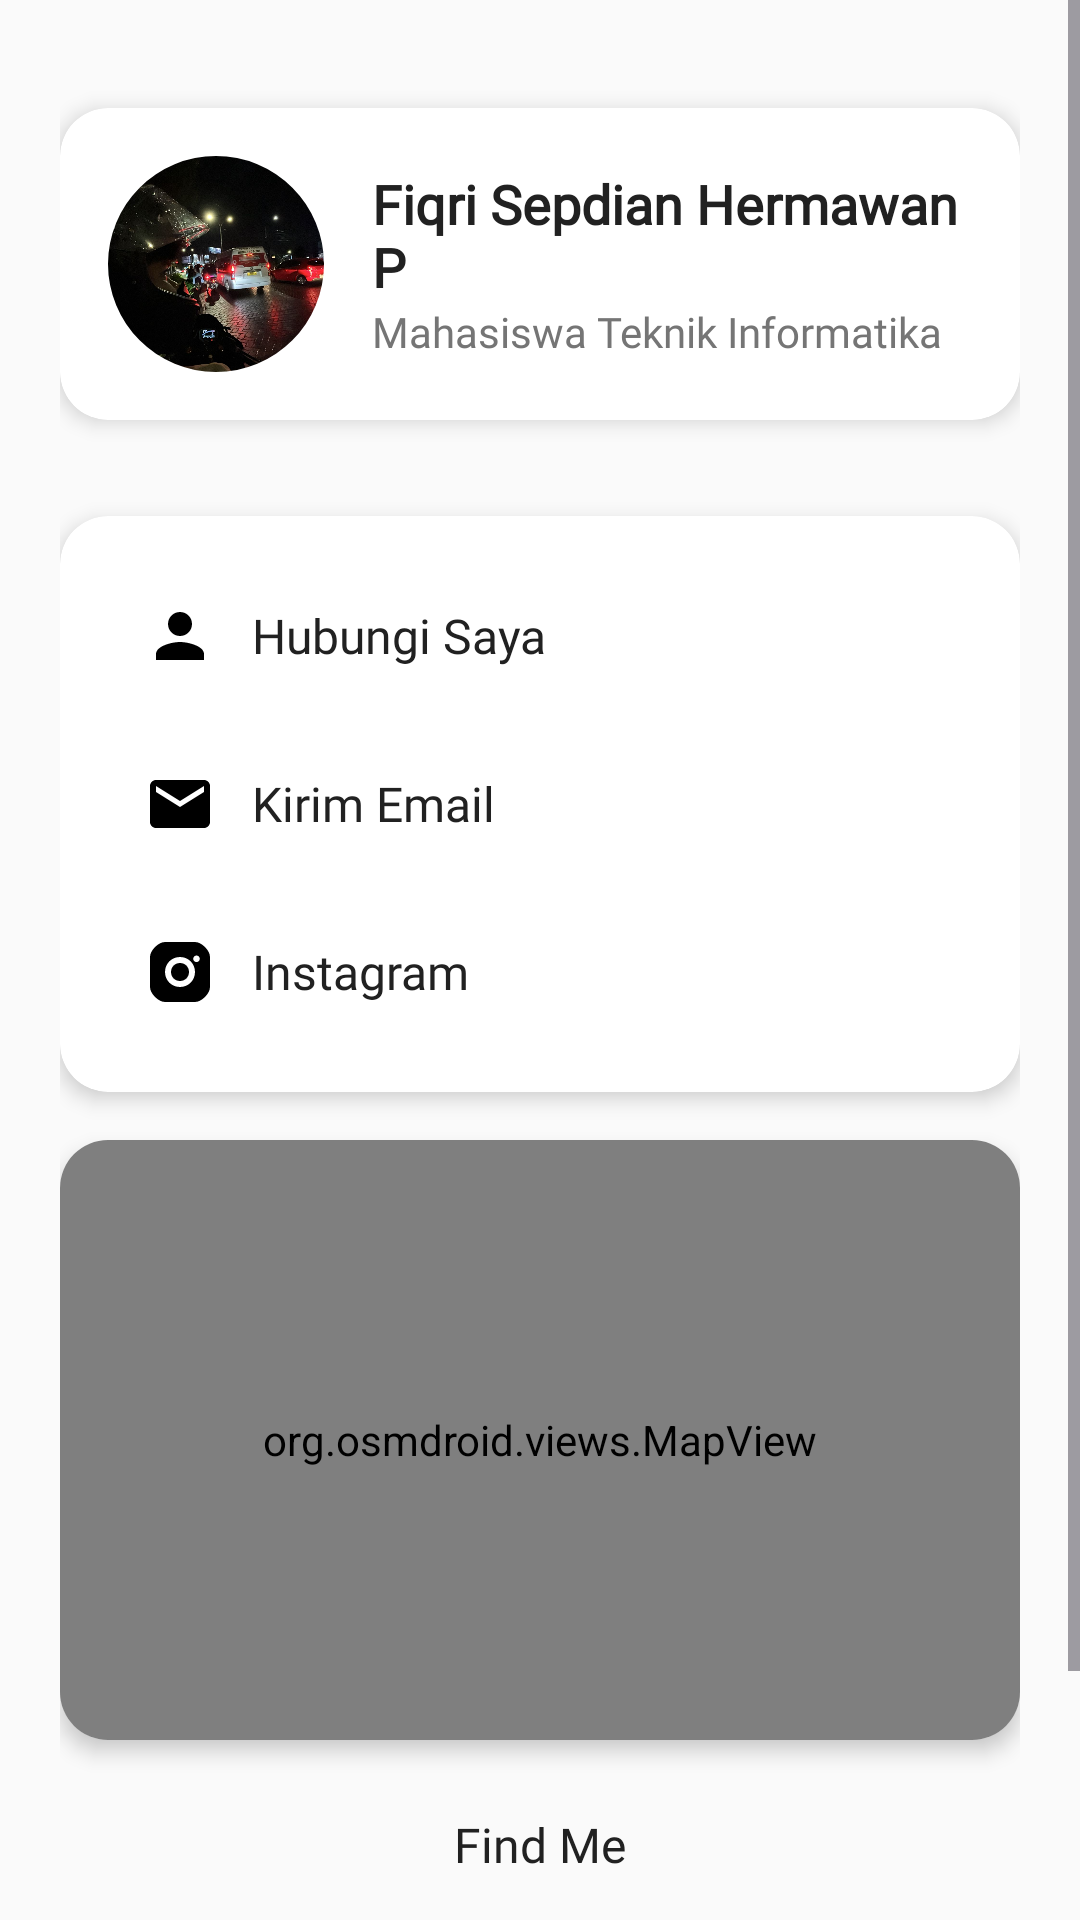

Named icons in this screenshot (1080px×1920px) and their bounding boxes, (x1, y1, x2, y2):
contact: (156, 612, 204, 660)
Foto Profil: (108, 156, 324, 372)
